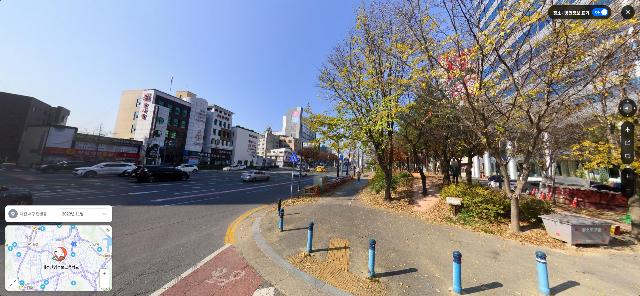ginkgo: (398, 1, 640, 236), (301, 0, 454, 201)
